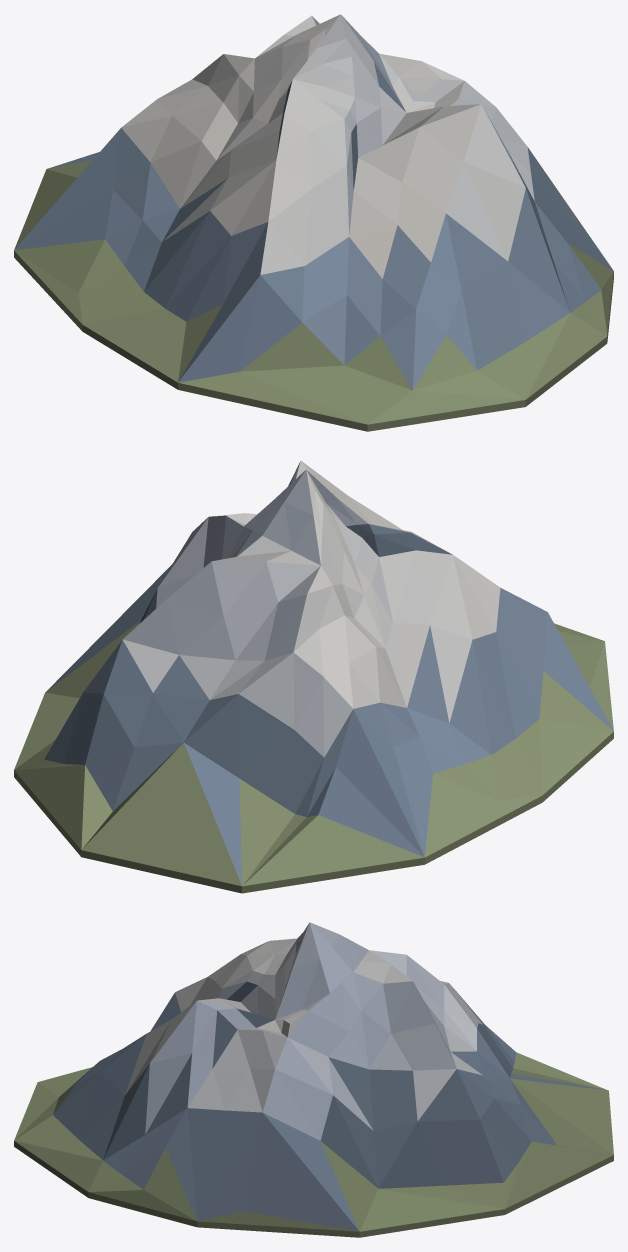
File: massif_east_summit.glb
3 renders of one model, top to bottom at view 1: azimuth 30°, elevation 25°; view 2: azimuth 150°, elevation 25°; view 3: azimuth 270°, elevation 25°, orthographic. The views are drawn at different scales.
Visible parts, largest first — view 1: massif_east_summit; view 2: massif_east_summit; view 3: massif_east_summit.
Boxes of the visible parts, box(x1,y1,x2,y2) form: massif_east_summit: box(14, 14, 613, 431); massif_east_summit: box(14, 461, 613, 893); massif_east_summit: box(14, 922, 613, 1237).
Size of the model in its own units: 590 by 312 by 766.
